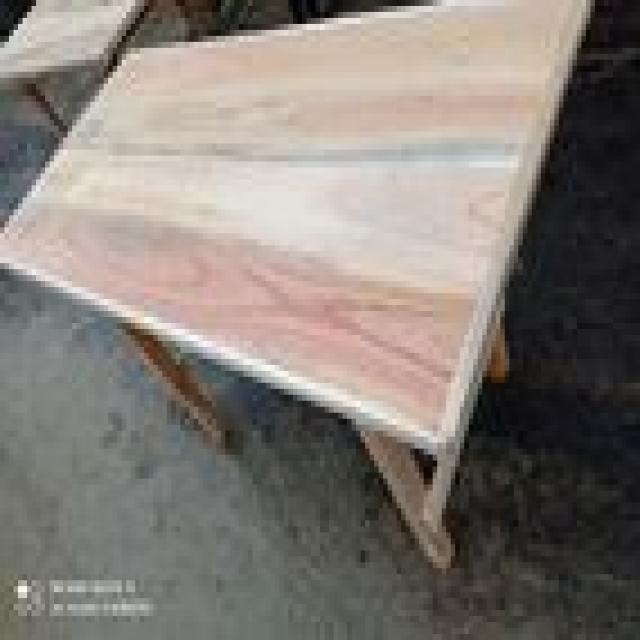others: (4, 5, 640, 562)
